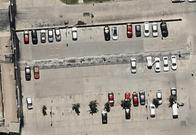parkingspot: (24, 54, 187, 83), (27, 102, 182, 131), (22, 20, 180, 47), (25, 87, 182, 114)
